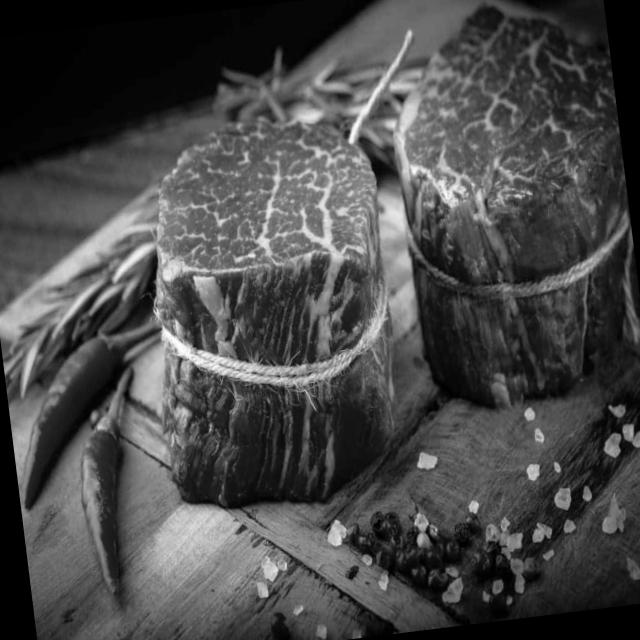than bit tet: (141, 108, 405, 503), (381, 7, 640, 395)
